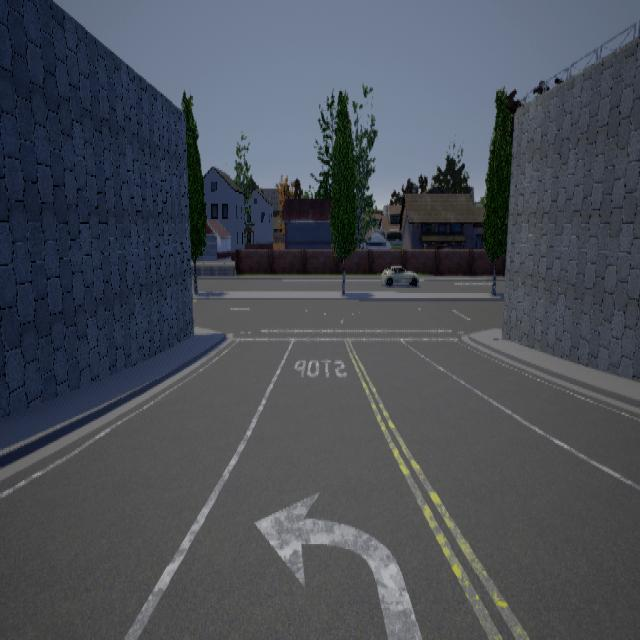vehicle: (382, 264, 420, 284)
